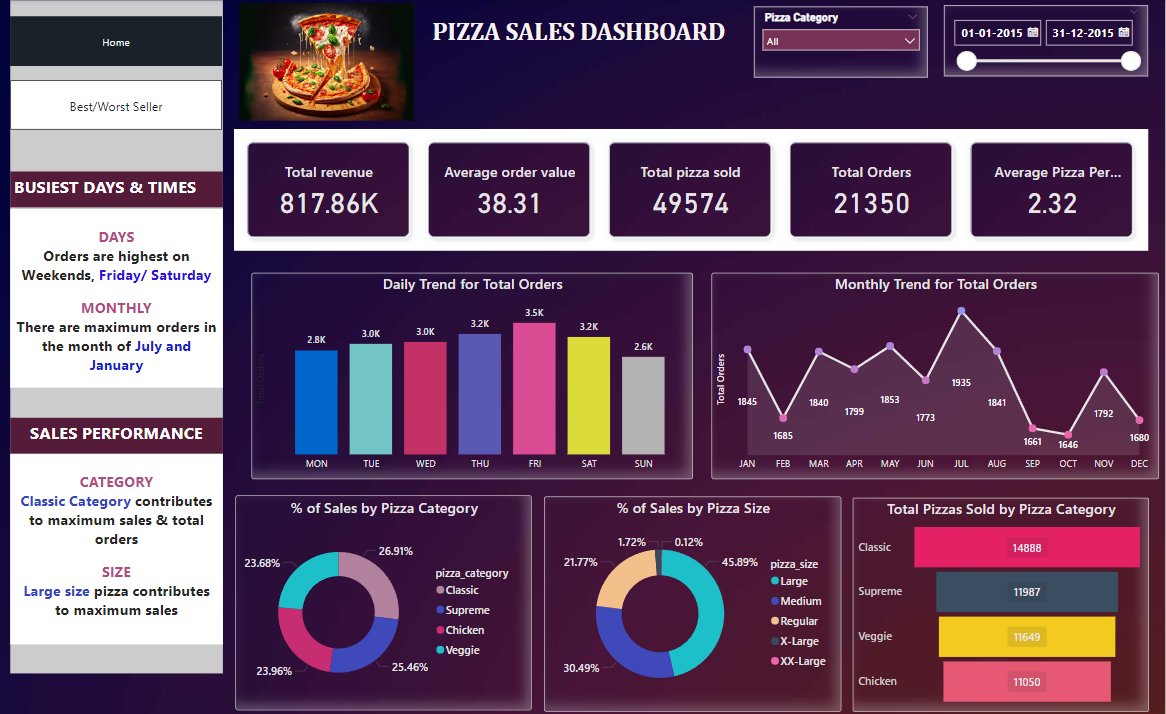

Layout of this report page (visuals, bound fields, positions):
{"tool":"powerbi","page":{"name":"Home","canvas":[1509,929],"ordinal":0},"visuals":[{"type":"cardVisual","fields":{"Data":["pizza_sales.Total revenue","pizza_sales.Average order value","pizza_sales.Total pizza sold","pizza_sales.Total Orders","pizza_sales.Average Pizza Per Order"]},"box":[303.9,168.8,1183.5,157.6],"z":0},{"type":"textbox","box":[12.9,0,1474.6,88.4],"z":1000},{"type":"columnChart","title":"Daily Trend for Total Orders","fields":{"Category":["pizza_sales.Order day"],"Y":["pizza_sales.Total Orders"]},"box":[326.8,354.3,571.1,266.9],"z":2000},{"type":"stackedAreaChart","title":"Monthly Trend for Total Orders","fields":{"Category":["pizza_sales.Order Month"],"Y":["pizza_sales.Total Orders"]},"box":[922.1,354.3,579.1,266.9],"z":3000},{"type":"donutChart","title":"% of Sales by Pizza Category","fields":{"Y":["pizza_sales.Total revenue"],"Category":["pizza_sales.pizza_category"]},"box":[305.5,641.6,384.3,278.2],"z":4000},{"type":"funnel","title":"Total Pizzas Sold by Pizza Category","fields":{"Y":["pizza_sales.Total pizza sold"],"Category":["pizza_sales.pizza_category"]},"box":[1104.9,645.5,383.4,276.6],"z":5000},{"type":"textbox","box":[14.5,1.6,275,871.6],"z":6000},{"type":"textbox","box":[14.5,223.5,275,46.6],"z":7000},{"type":"textbox","box":[14.5,271.8,275,231.6],"z":8000},{"type":"textbox","box":[14.5,541.9,275,46.6],"z":9000},{"type":"textbox","box":[14.5,588.6,275,246],"z":10000},{"type":"slicer","fields":{"Values":["pizza_sales.pizza_category"]},"box":[977.7,9.6,225.1,91.7],"z":11000},{"type":"slicer","fields":{"Values":["pizza_sales.order_date"]},"box":[1223.7,8,263.7,91.7],"z":12000},{"type":"pageNavigator","box":[14.5,22.5,275,64.3],"z":13000},{"type":"donutChart","title":"% of Sales by Pizza Size","fields":{"Y":["pizza_sales.Total revenue"],"Category":["pizza_sales.pizza_size"]},"box":[705.3,643.9,385,278.2],"z":14000},{"type":"image","box":[305.5,0,236.4,162.4],"z":15000},{"type":"pageNavigator","box":[14.5,104.5,275,64.3],"z":16000}]}

Visuals, with their boxes in screenshot pixels (x1, y1, x2, y2), scaled from the page's 1509x929 canvas onto the 1166x714 screenshot:
cardVisual - pizza_sales.Total revenue x pizza_sales.Average order value: (left=235, top=130, right=1149, bottom=251)
textbox: (left=10, top=0, right=1149, bottom=68)
"Daily Trend for Total Orders" columnChart: (left=253, top=272, right=694, bottom=477)
"Monthly Trend for Total Orders" stackedAreaChart: (left=713, top=272, right=1160, bottom=477)
"% of Sales by Pizza Category" donutChart: (left=236, top=493, right=533, bottom=707)
"Total Pizzas Sold by Pizza Category" funnel: (left=854, top=496, right=1150, bottom=709)
textbox: (left=11, top=1, right=224, bottom=671)
textbox: (left=11, top=172, right=224, bottom=208)
textbox: (left=11, top=209, right=224, bottom=387)
textbox: (left=11, top=416, right=224, bottom=452)
textbox: (left=11, top=452, right=224, bottom=641)
slicer - pizza_sales.pizza_category: (left=755, top=7, right=929, bottom=78)
slicer - pizza_sales.order_date: (left=946, top=6, right=1149, bottom=77)
pageNavigator: (left=11, top=17, right=224, bottom=67)
"% of Sales by Pizza Size" donutChart: (left=545, top=495, right=842, bottom=709)
image: (left=236, top=0, right=419, bottom=125)
pageNavigator: (left=11, top=80, right=224, bottom=130)
